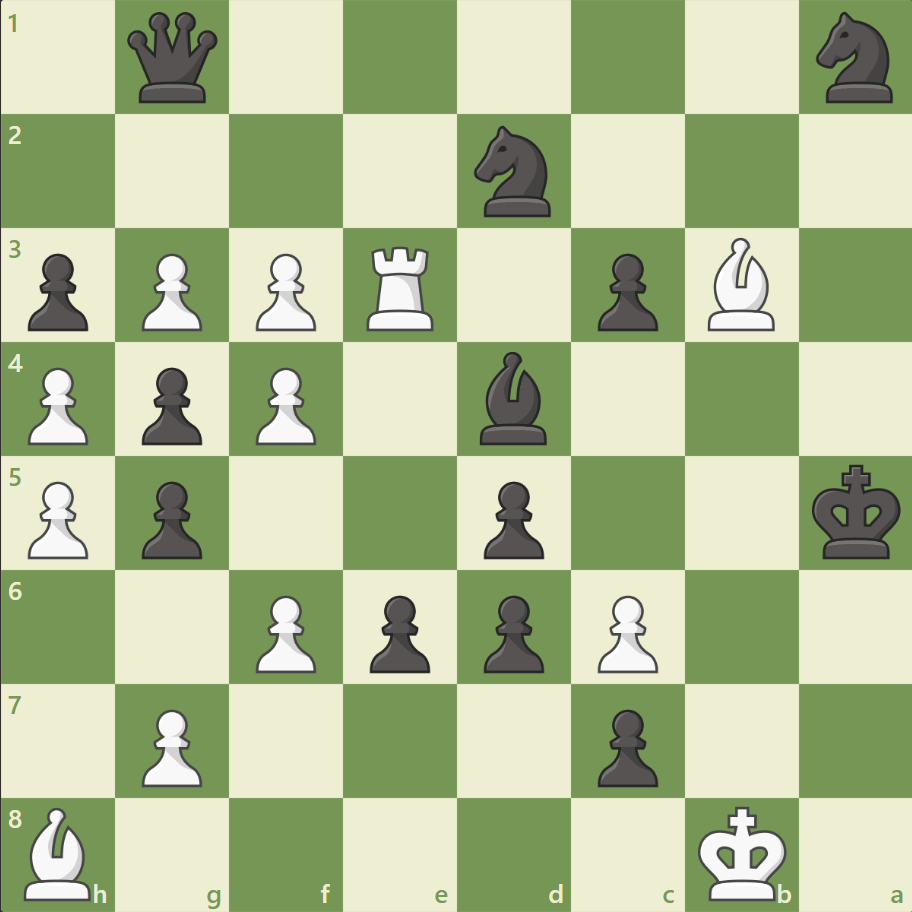B: (17, 801, 101, 904), (698, 233, 782, 336)
K: (692, 798, 792, 906)
P: (133, 700, 208, 791), (247, 586, 322, 677), (20, 473, 95, 564), (247, 359, 322, 450), (20, 359, 95, 450), (247, 246, 322, 337), (133, 246, 208, 337), (588, 586, 662, 677)
R: (360, 239, 442, 336)
b: (471, 347, 555, 449)
k: (806, 458, 906, 566)
n: (806, 7, 903, 110), (465, 121, 562, 223)
p: (474, 586, 549, 677), (474, 473, 549, 564), (133, 473, 208, 564), (133, 359, 208, 450), (20, 246, 95, 337), (588, 700, 662, 791), (361, 586, 435, 677), (588, 246, 662, 337)
q: (124, 9, 223, 108)
